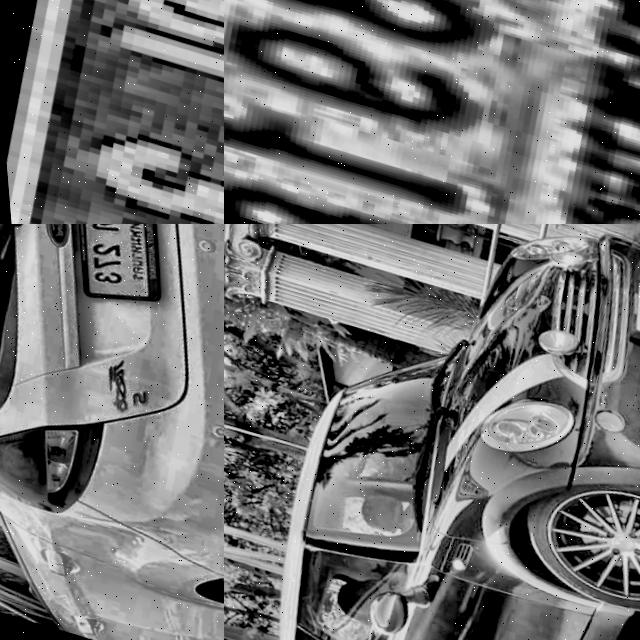license-plate: (224, 0, 640, 224), (0, 0, 224, 224), (38, 224, 191, 318), (612, 266, 640, 353)
